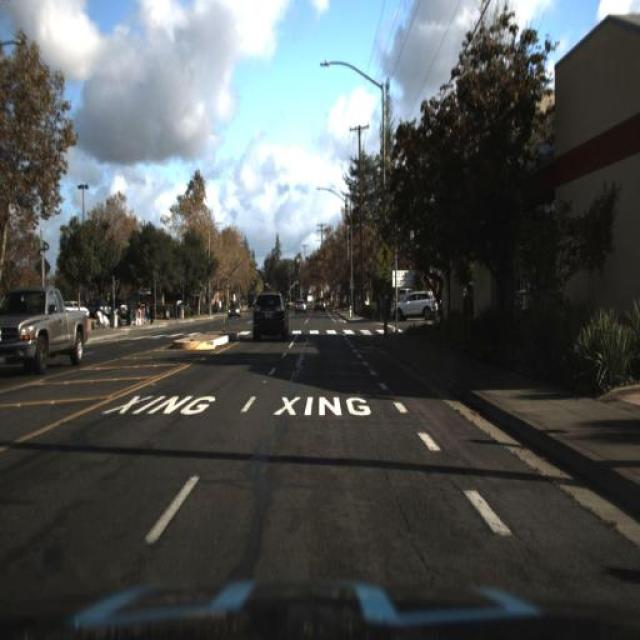car: (1, 282, 88, 383), (246, 278, 298, 350), (252, 290, 289, 342), (389, 292, 440, 318), (312, 292, 329, 317), (226, 298, 242, 322), (293, 297, 309, 317)
trafficLight: (144, 292, 156, 329), (377, 287, 389, 323)
